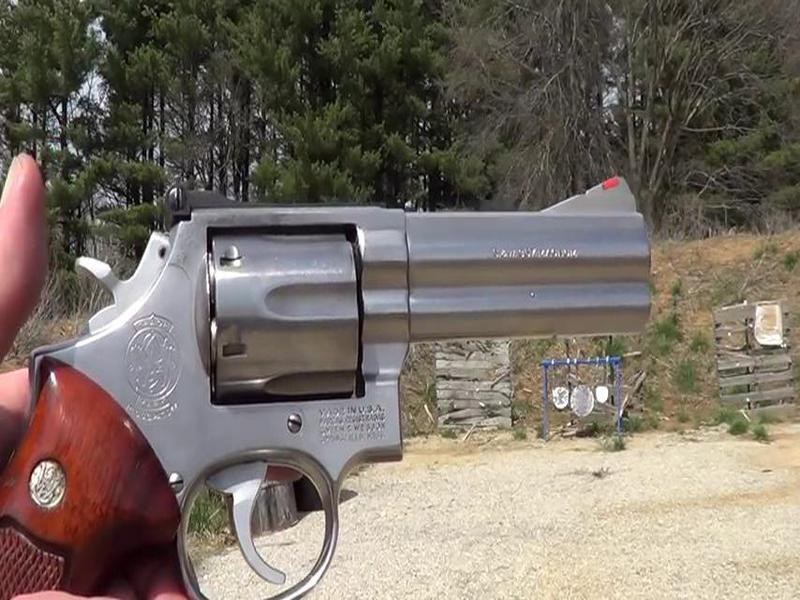Revolver: (25, 154, 670, 595)
